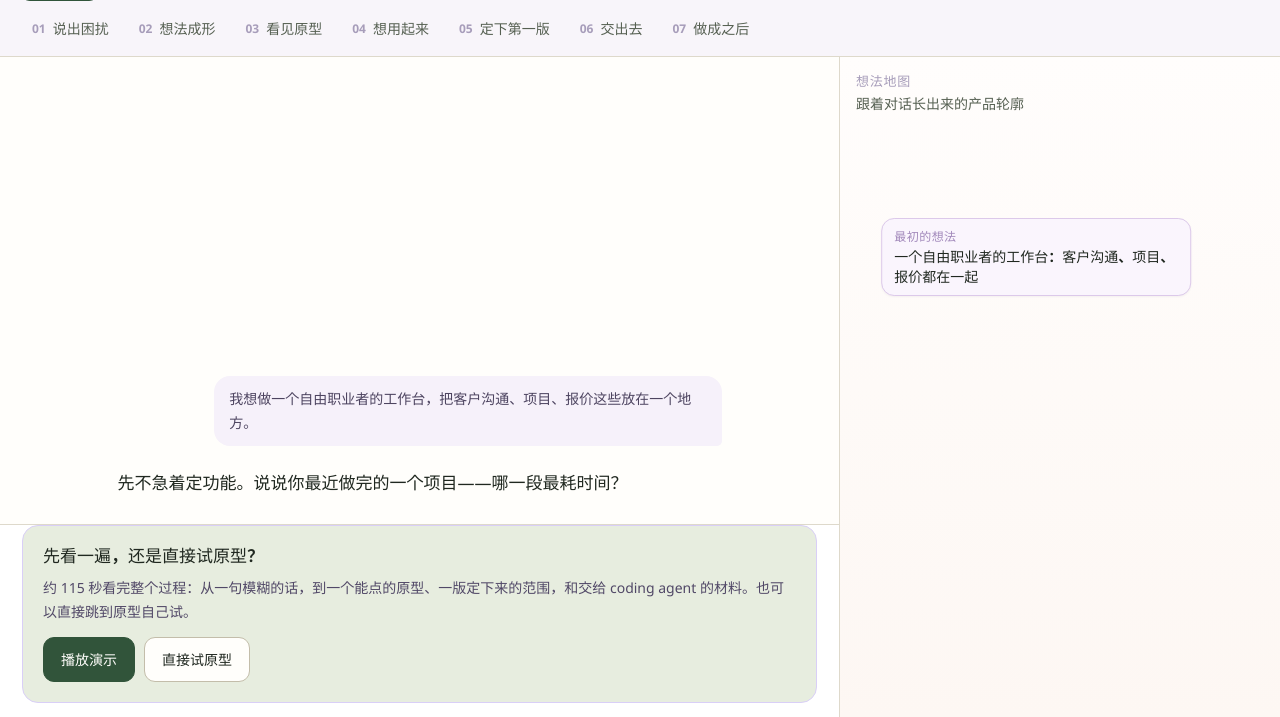
before anything is clicked › shows the field as a read-only part of the demo, never as somewhere to type
(page scrolled)
Click the button "播放演示" at (89, 660), box 43,637 -> 135,682
Wait 120000 ms
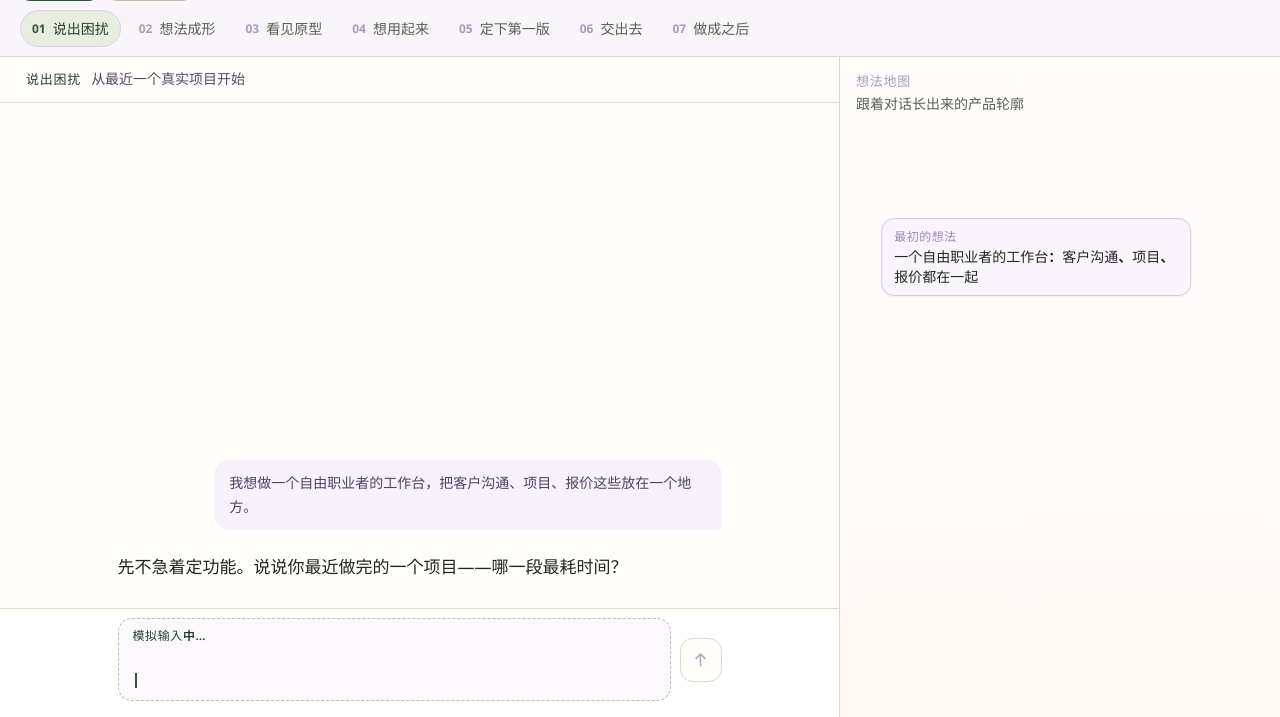
Now the element with class "chat-compose-demo" is shown, box 90,609 -> 750,716
